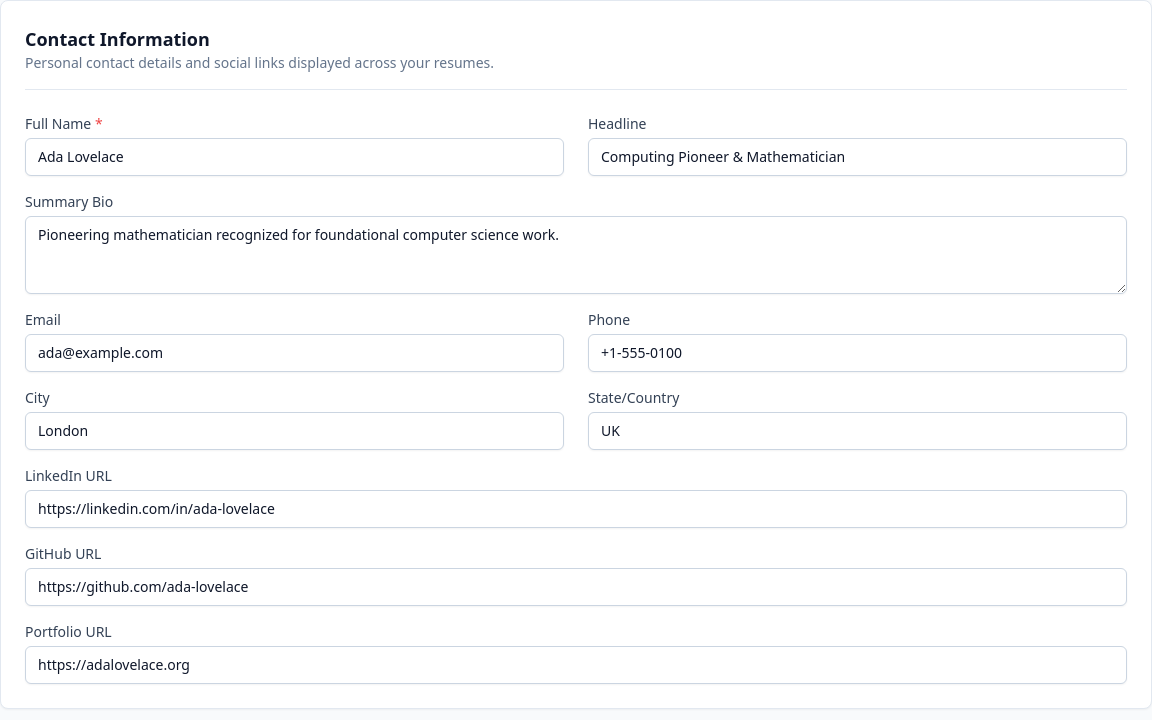
it: ContactForm › validates required full name and displays error message with aria-invalid
Clear the field labelled "Full Name *" at coordinates (294, 157), box [25,138,564,176]
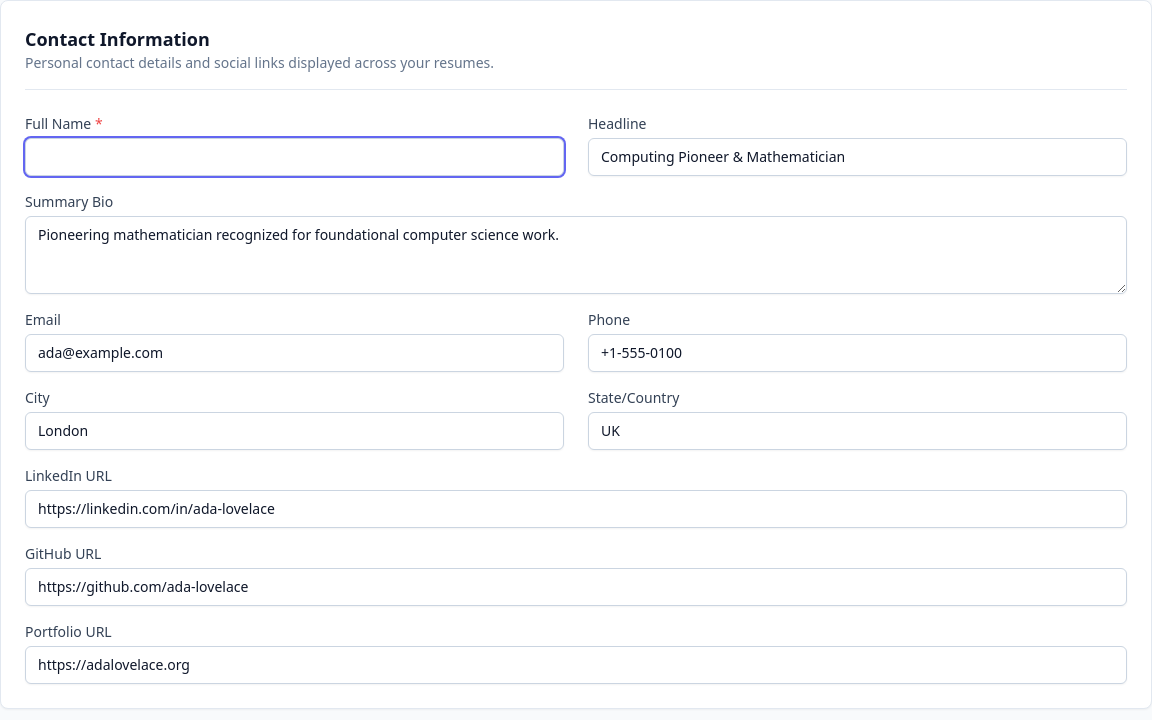
Press Tab
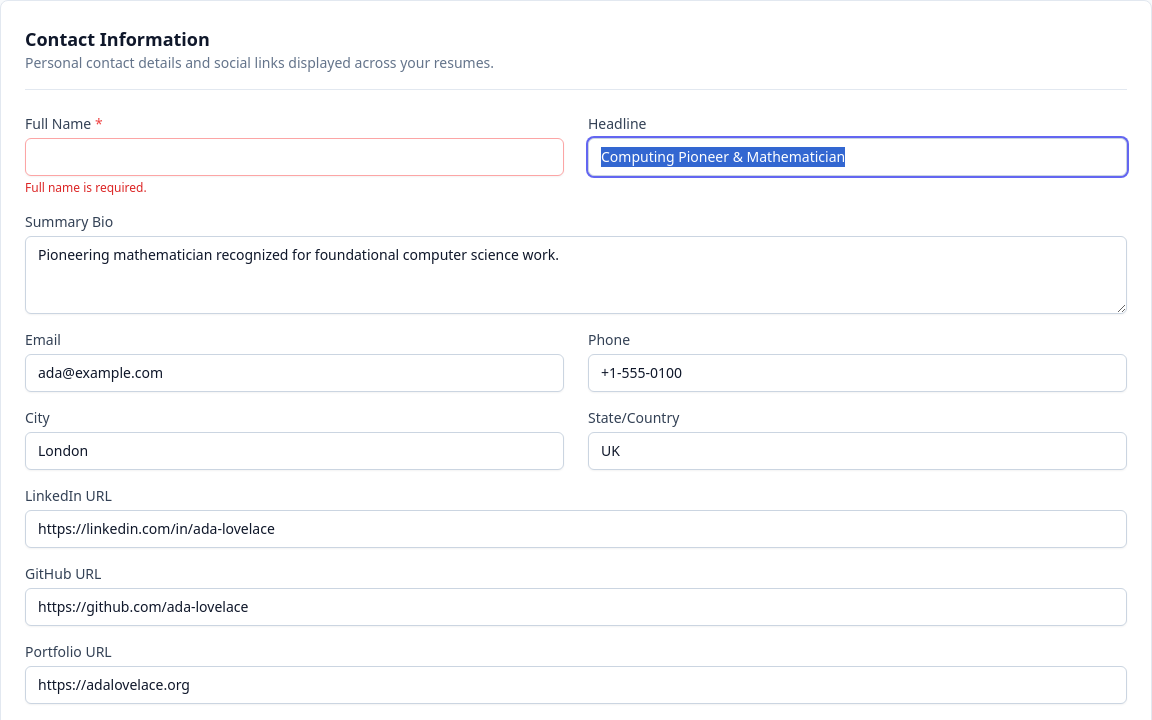
Check: the text "Full name is required." is shown, box [25,179,147,196]
